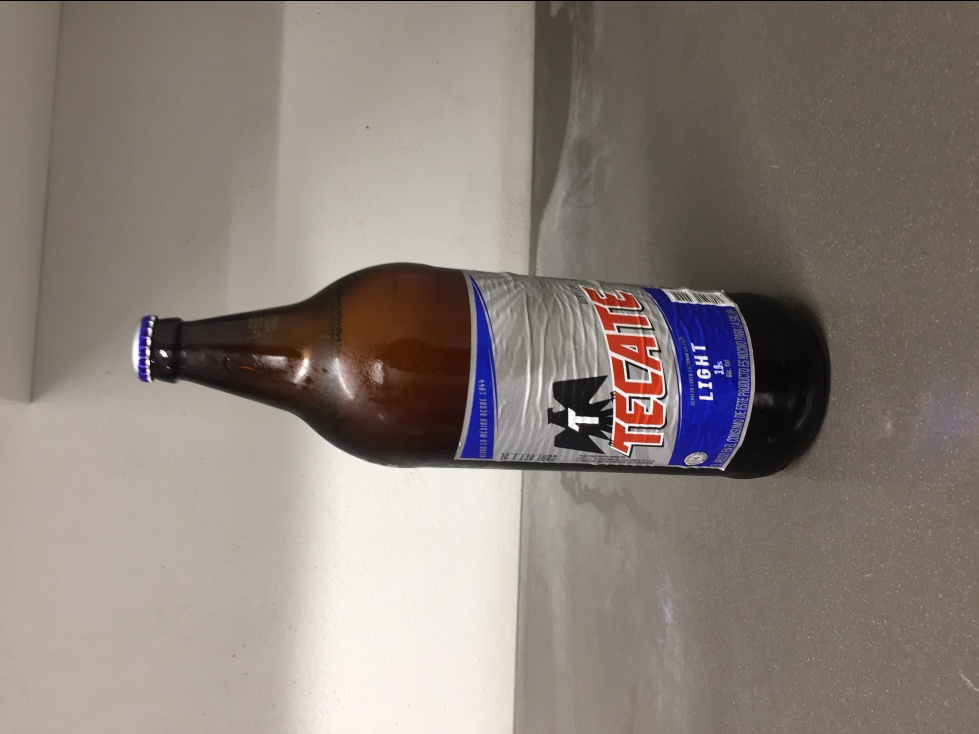tecateC: (132, 261, 832, 474)
